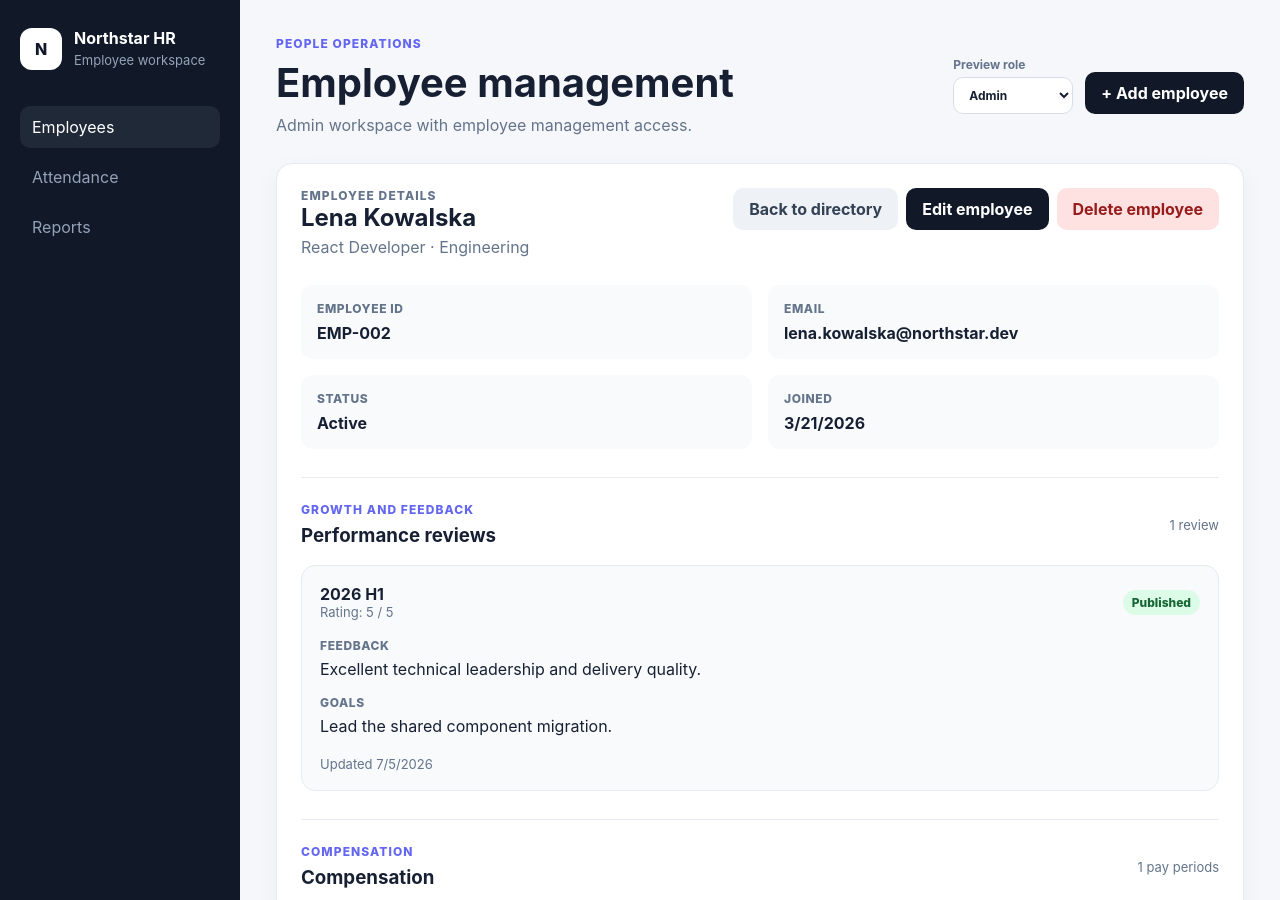
Test: limits employee payroll visibility to the demo employee identity
Expected: the heading "Lena Kowalska" is shown, [301,203,476,232]
Select "Employee" in the dropdown labelled "Preview role" at (1013, 96), box [953,77,1073,114]
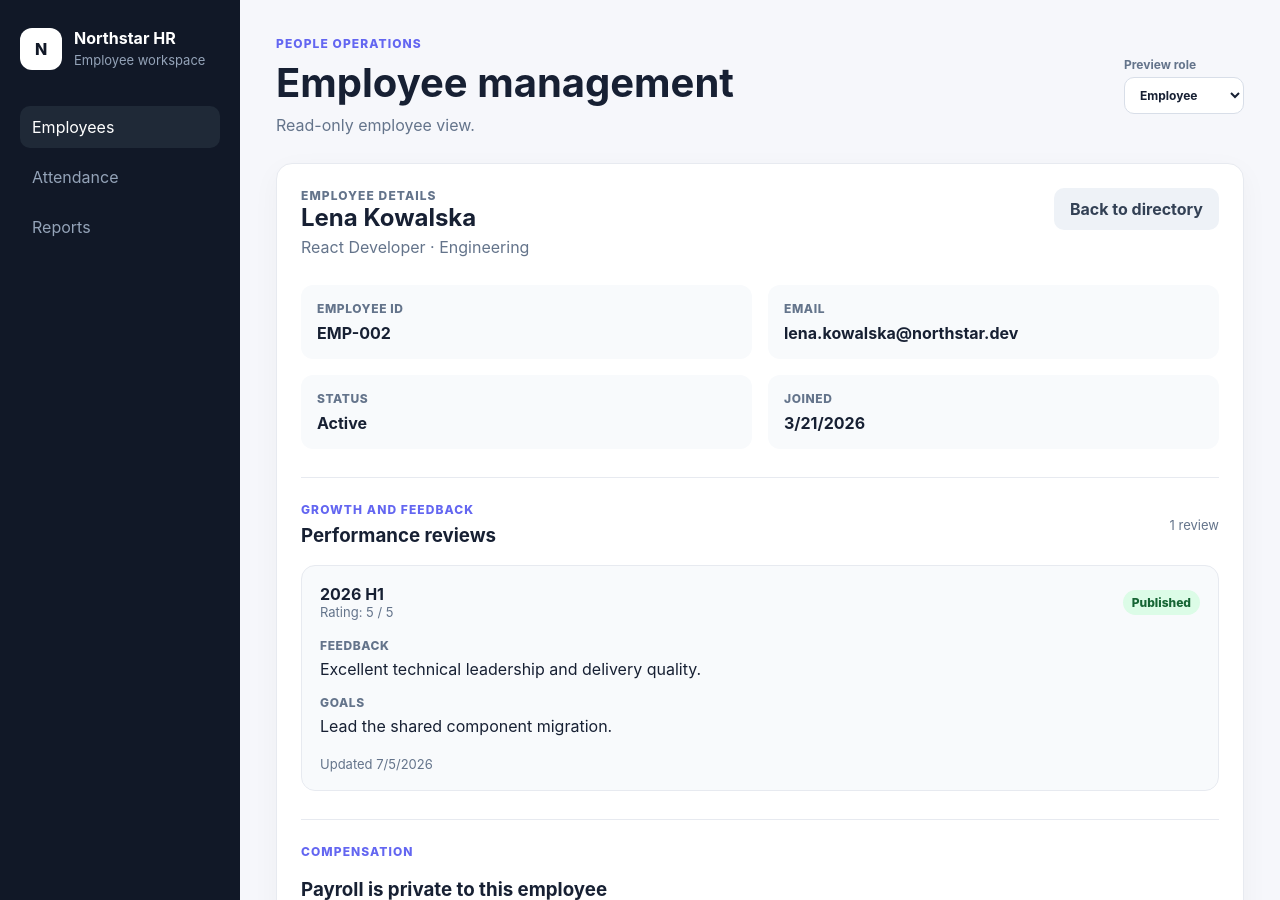
Expected: the heading "Payroll is private to this employee" is shown, [301,878,607,899]
